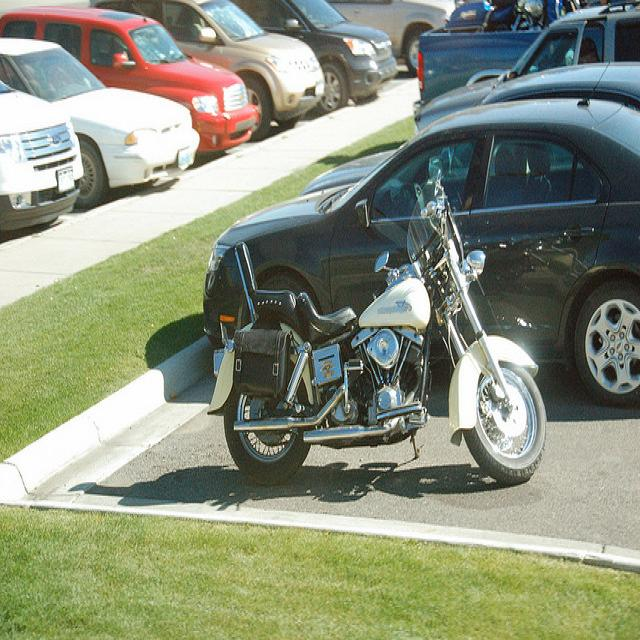motor: (205, 147, 549, 486)
